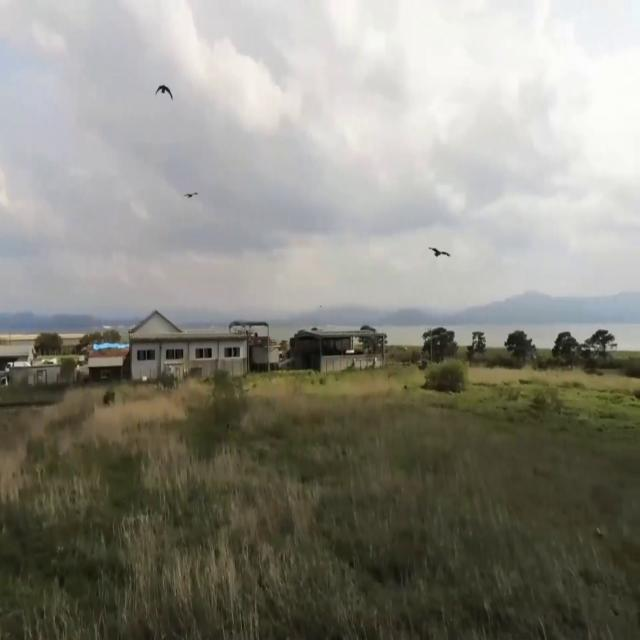bird: (154, 72, 174, 117), (427, 236, 451, 273), (184, 181, 198, 208)
